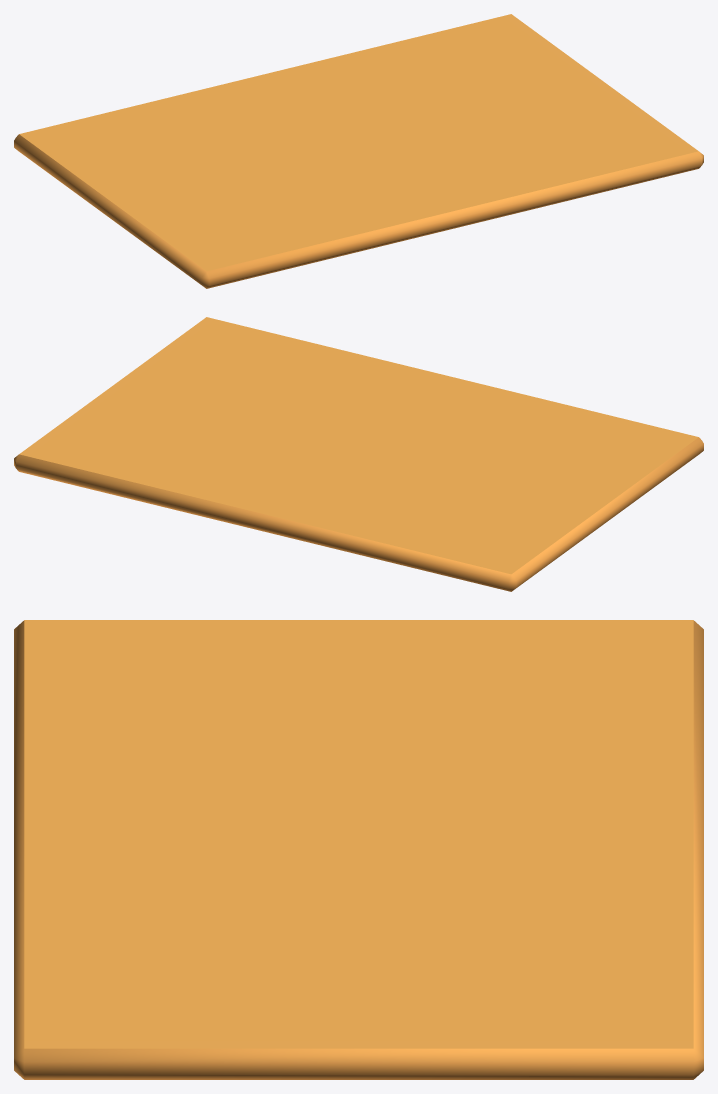
Rendered from rug.glb.
The picture shows the model from 3 angles, top to bottom: view 1: azimuth 30°, elevation 25°; view 2: azimuth 150°, elevation 25°; view 3: azimuth 270°, elevation 25°; orthographic projection. The views are drawn at different scales.
Parts seen in each view (by area): view 1: rug_rectangle_A; view 2: rug_rectangle_A; view 3: rug_rectangle_A.
Part boxes in pixels (x1=…): rug_rectangle_A: x1=14, y1=14, x2=703, y2=288; rug_rectangle_A: x1=14, y1=317, x2=703, y2=591; rug_rectangle_A: x1=14, y1=620, x2=703, y2=1079.
Bounding box in the file's own units: 3 × 0.1 × 2.
Materials: 1 (1 with a texture image).
